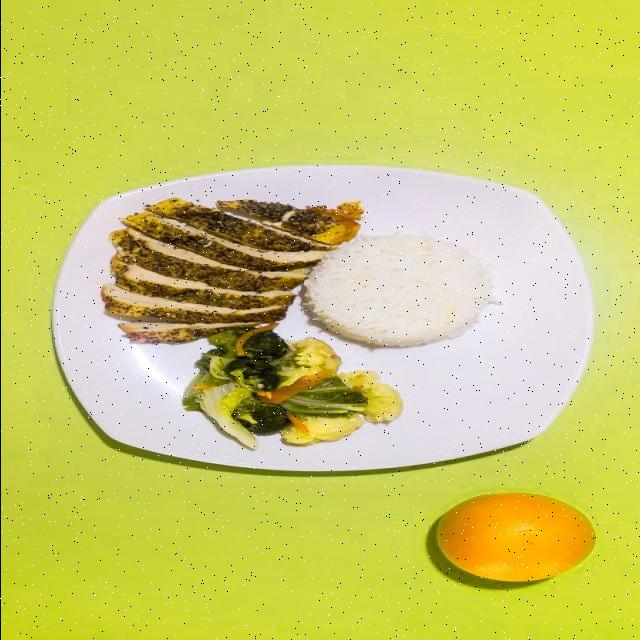Chicken: (102, 198, 361, 343)
Fruits: (437, 493, 594, 581)
Green veg: (182, 324, 401, 450)
Rice: (303, 234, 501, 348)
